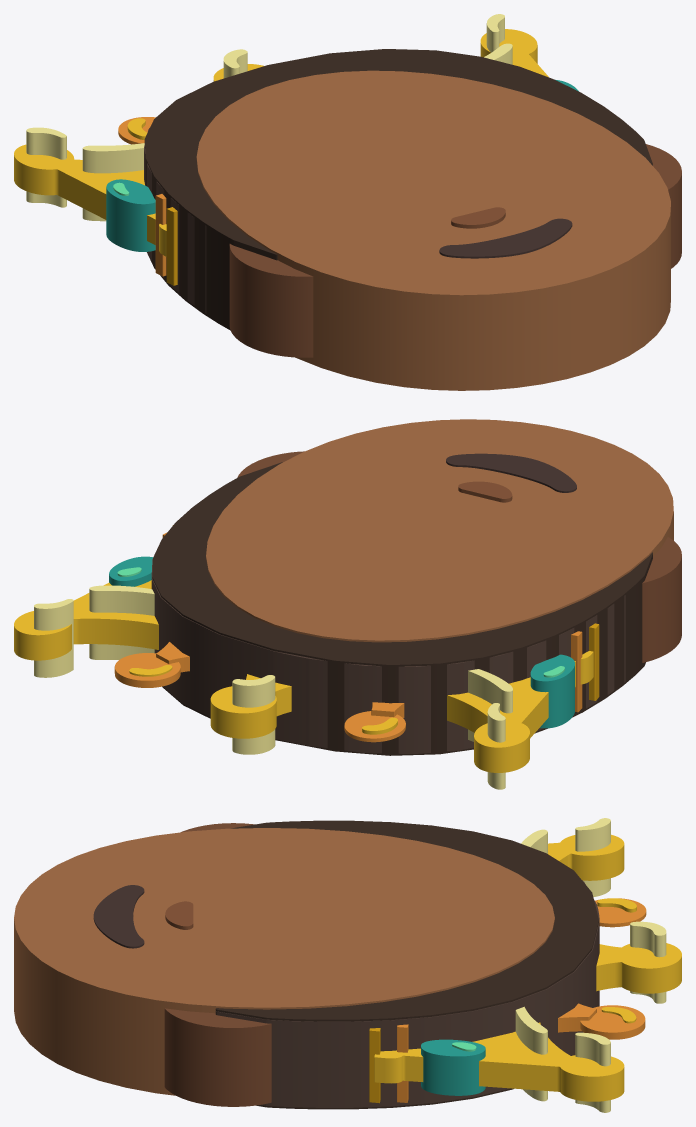
Rendered from emoji_u1f934_1f3fe.glb.
3 views of the same model, one above another, from view 1: azimuth 30°, elevation 25°; view 2: azimuth 150°, elevation 25°; view 3: azimuth 270°, elevation 25° (orthographic). The views are drawn at different scales.
Parts seen in each view (by area): view 1: emoji_u1f934_1f3fe; view 2: emoji_u1f934_1f3fe; view 3: emoji_u1f934_1f3fe.
Boxes of the visible parts, x1,y1,x2,y2 form: emoji_u1f934_1f3fe: (14,14,681,390); emoji_u1f934_1f3fe: (14,419,681,789); emoji_u1f934_1f3fe: (14,818,681,1112).
Bounding box in the file's own units: 0.0292 × 0.0056 × 0.0338.
